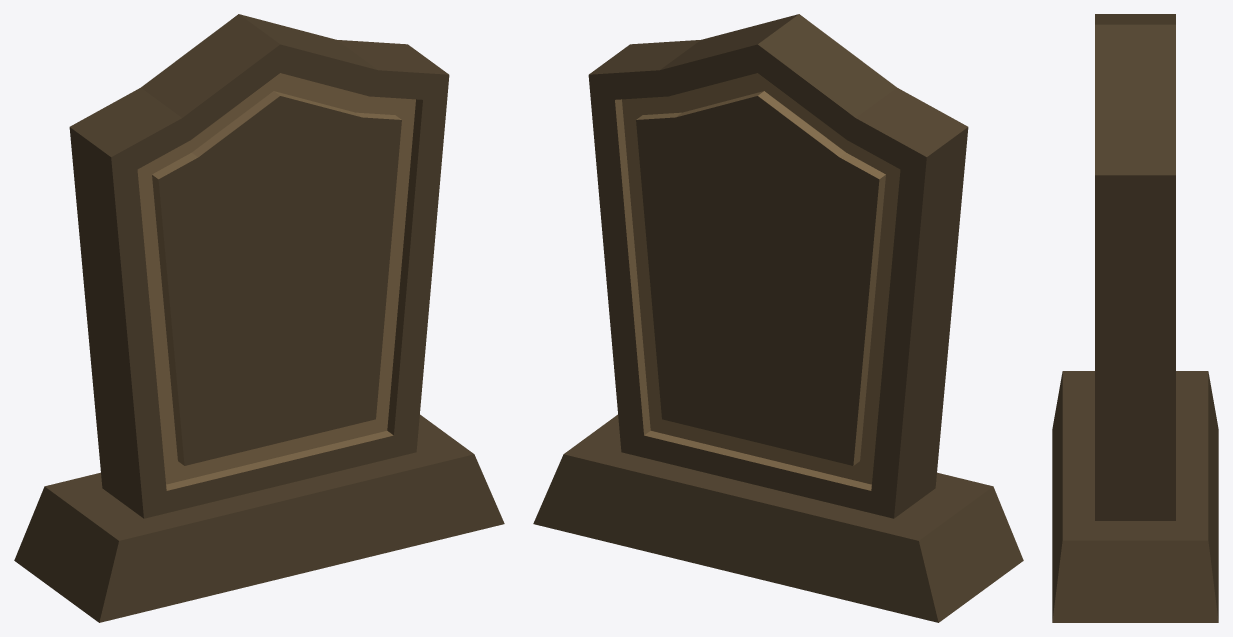
The model's file is Tombstone_2_Brown.fbx.
The picture shows the model from 3 angles, left to right: view 1: azimuth 30°, elevation 25°; view 2: azimuth 150°, elevation 25°; view 3: azimuth 270°, elevation 25°; orthographic projection. The views are drawn at different scales.
Parts seen in each view (by area): view 1: Tombstone_2_Brown_Part_1, Tombstone_2_Brown_Part_2; view 2: Tombstone_2_Brown_Part_1, Tombstone_2_Brown_Part_2; view 3: Tombstone_2_Brown_Part_1.
Part boxes in pixels (x1,y1,x2,y2): Tombstone_2_Brown_Part_1: (14,14,504,622); Tombstone_2_Brown_Part_2: (137,73,422,490); Tombstone_2_Brown_Part_1: (533,14,1023,622); Tombstone_2_Brown_Part_2: (615,73,900,490); Tombstone_2_Brown_Part_1: (1052,14,1218,622).
Size of the model in its own units: 124 by 150 by 45.
